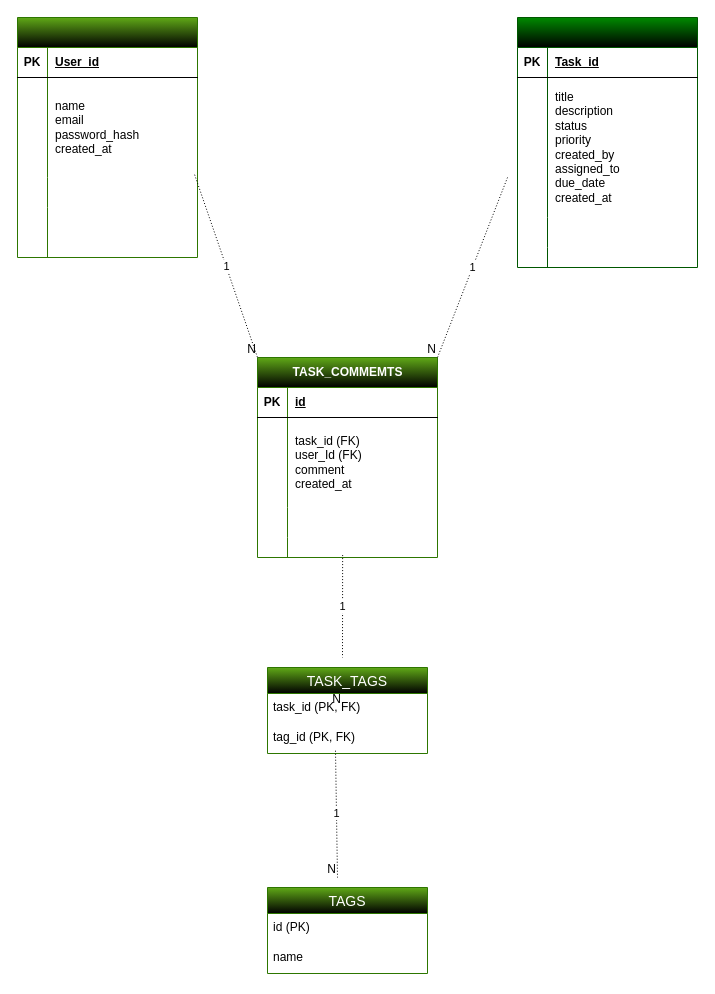
The diagram is 715 pixels wide and 994 high, and some of its shapes have lost their labels. Here are the shapes that lost their labels. From the top down, the box of each, then its label:
(16, 16, 198, 258): USERS
(516, 16, 698, 268): TASKS
